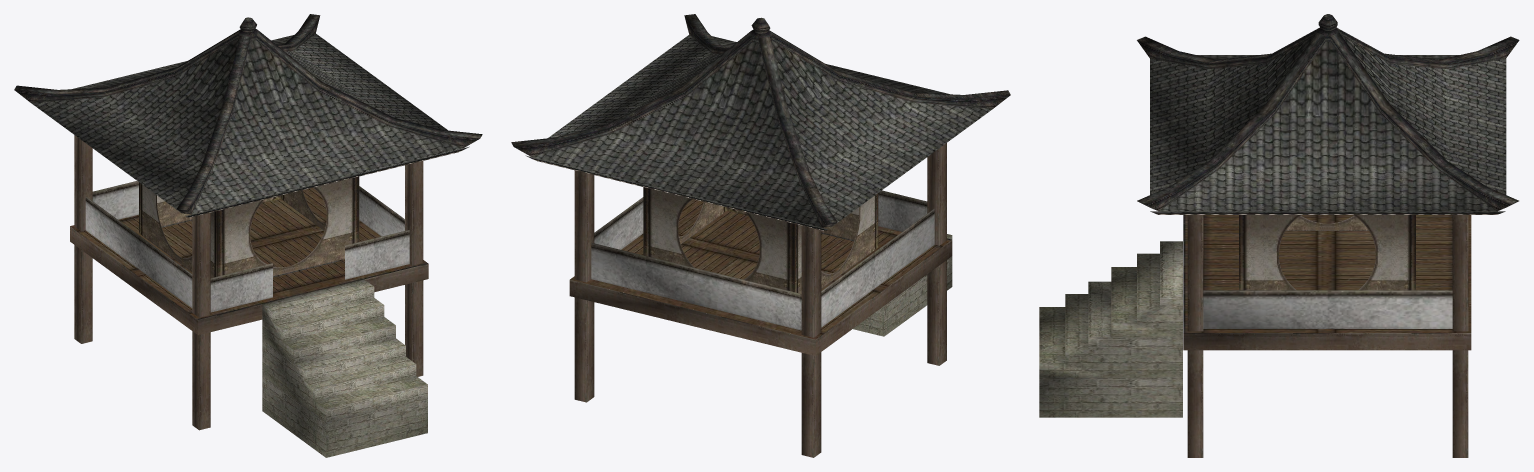
The model's file is cj_rich4_buil02.glb.
The picture shows the model from 3 angles, left to right: view 1: azimuth 30°, elevation 25°; view 2: azimuth 150°, elevation 25°; view 3: azimuth 270°, elevation 25°; orthographic projection. The views are drawn at different scales.
Visible parts, largest first — view 1: CJ_rich04_buil02_roof, CJ_rich04_buil02_floor, CJ_rich04_buil02_wall01, CJ_rich04_buil02_wall02; view 2: CJ_rich04_buil02_roof, CJ_rich04_buil02_wall01, CJ_rich04_buil02_floor, CJ_rich04_buil02_wall02; view 3: CJ_rich04_buil02_roof, CJ_rich04_buil02_floor, CJ_rich04_buil02_wall01, CJ_rich04_buil02_wall02.
Boxes of the visible parts, x1,y1,x2,y2 form: CJ_rich04_buil02_roof: [14, 14, 482, 319]; CJ_rich04_buil02_floor: [85, 181, 427, 457]; CJ_rich04_buil02_wall01: [70, 135, 428, 430]; CJ_rich04_buil02_wall02: [139, 176, 359, 277]; CJ_rich04_buil02_roof: [511, 14, 1010, 339]; CJ_rich04_buil02_wall01: [569, 143, 952, 457]; CJ_rich04_buil02_floor: [591, 190, 952, 336]; CJ_rich04_buil02_wall02: [643, 187, 878, 293]; CJ_rich04_buil02_roof: [1137, 14, 1519, 332]; CJ_rich04_buil02_floor: [1039, 241, 1452, 417]; CJ_rich04_buil02_wall01: [1183, 215, 1471, 457]; CJ_rich04_buil02_wall02: [1239, 215, 1415, 290].
Size of the model in its own units: 6.13 by 6.5 by 7.41.
4 materials, 4 textured.
